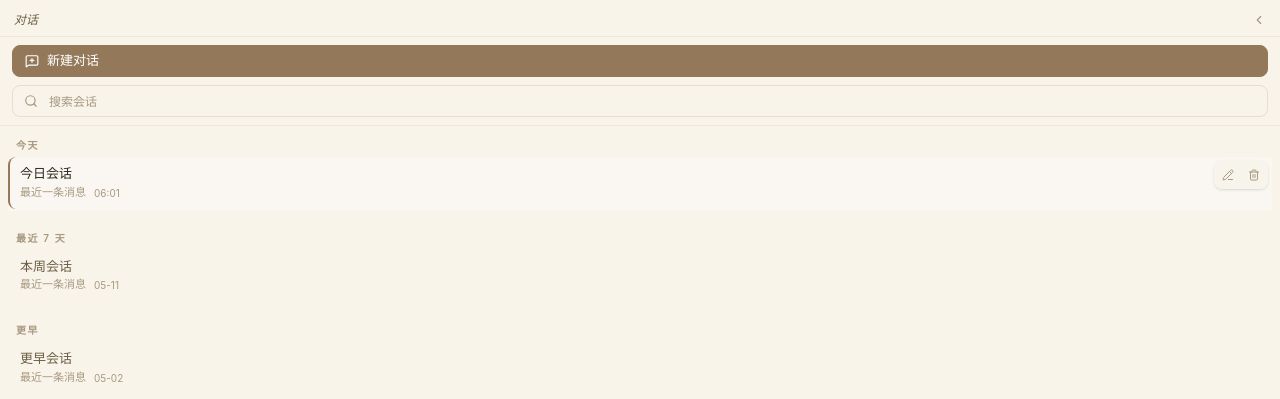
Test: SessionSidebar › groups sessions by recency and filters by search query
The image size is (1280, 399).
Check: the text "今天" is shown, box [16,139,39,151]
Check: the text "最近 7 天" is shown, box [16,232,66,244]
Type "更早" into the field with placeholder "搜索会话" at (640, 101), box [12,85,1268,117]
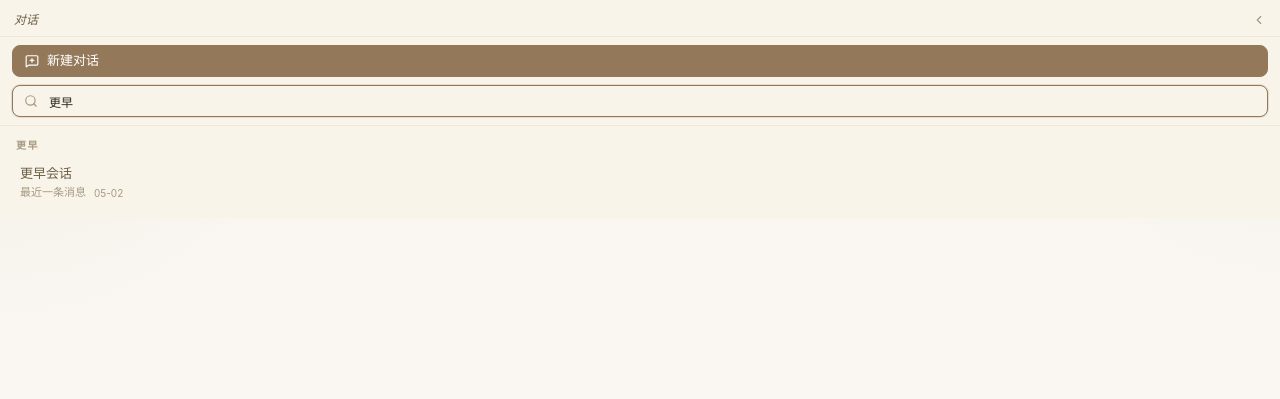
Check: the text "更早会话" is shown, box [20,165,72,181]
Check: the button "今日会话" is gone
Check: the button "本周会话" is gone
